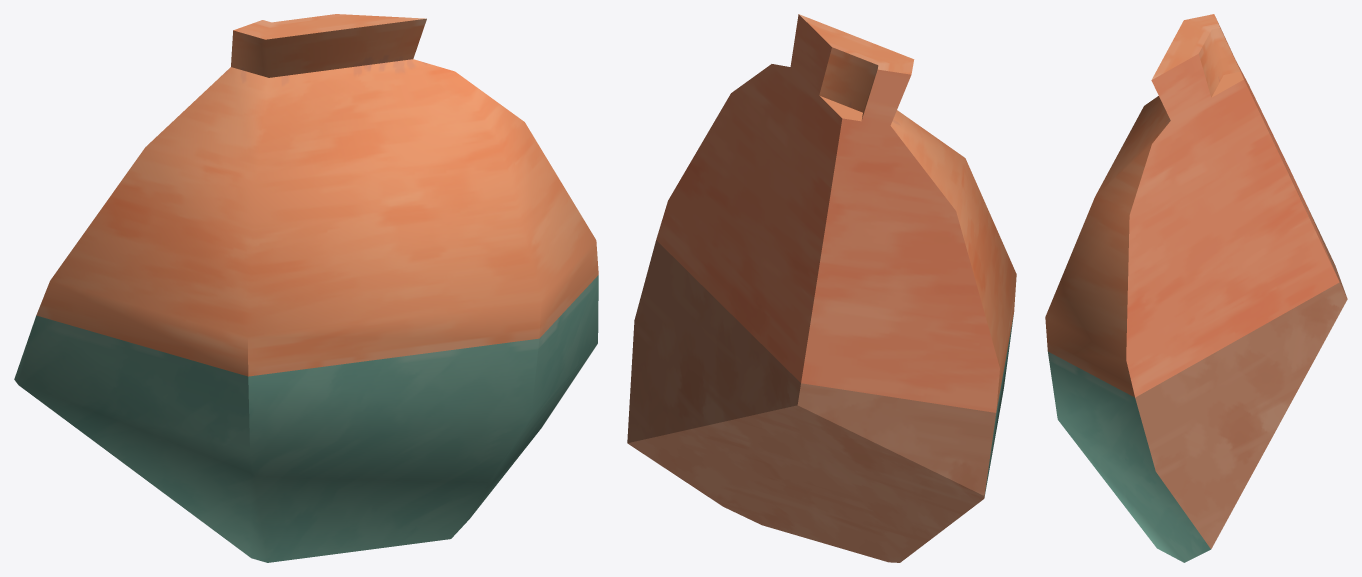
File: pot_round_s01.fbx
The picture shows the model from 3 angles, left to right: view 1: azimuth 30°, elevation 25°; view 2: azimuth 150°, elevation 25°; view 3: azimuth 270°, elevation 25°; orthographic projection. The views are drawn at different scales.
Parts seen in each view (by area): view 1: pot_round_s01; view 2: pot_round_s01; view 3: pot_round_s01.
Boxes of the visible parts, x1,y1,x2,y2 form: pot_round_s01: (14,14,598,562); pot_round_s01: (627,14,1016,562); pot_round_s01: (1045,14,1347,562).
Bounding box in the file's own units: 1.88 × 2.02 × 1.19.
